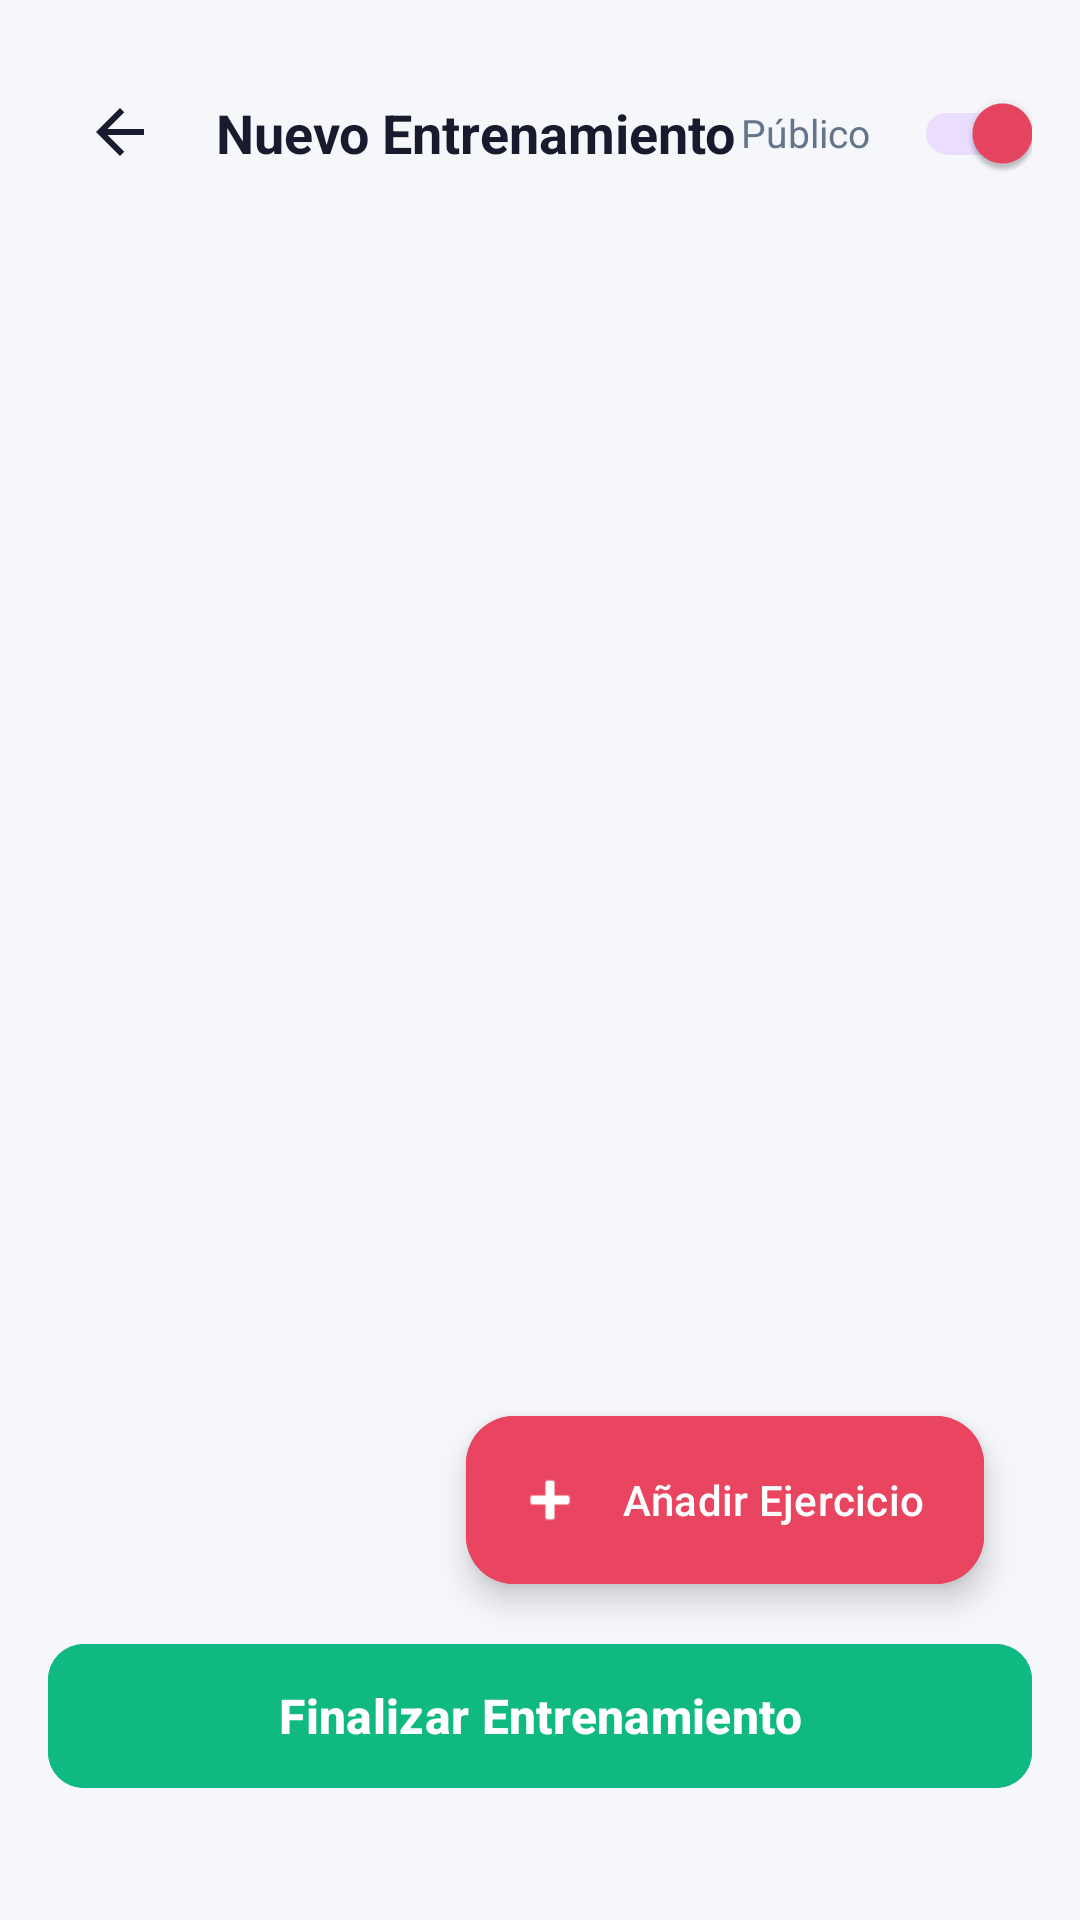

Icons on this 1080*1920 Android screen, each with its box as (x1, y1, x2, y2):
flecha atras: (96, 108, 144, 156)
